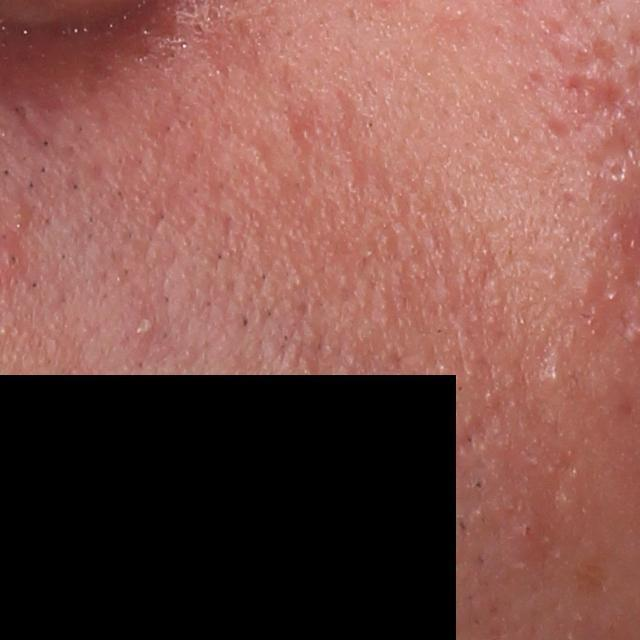atrophic_scar: (563, 72, 636, 125), (542, 105, 579, 148)
comedo: (534, 359, 566, 390), (604, 156, 628, 185)
pustule: (126, 305, 161, 341)
